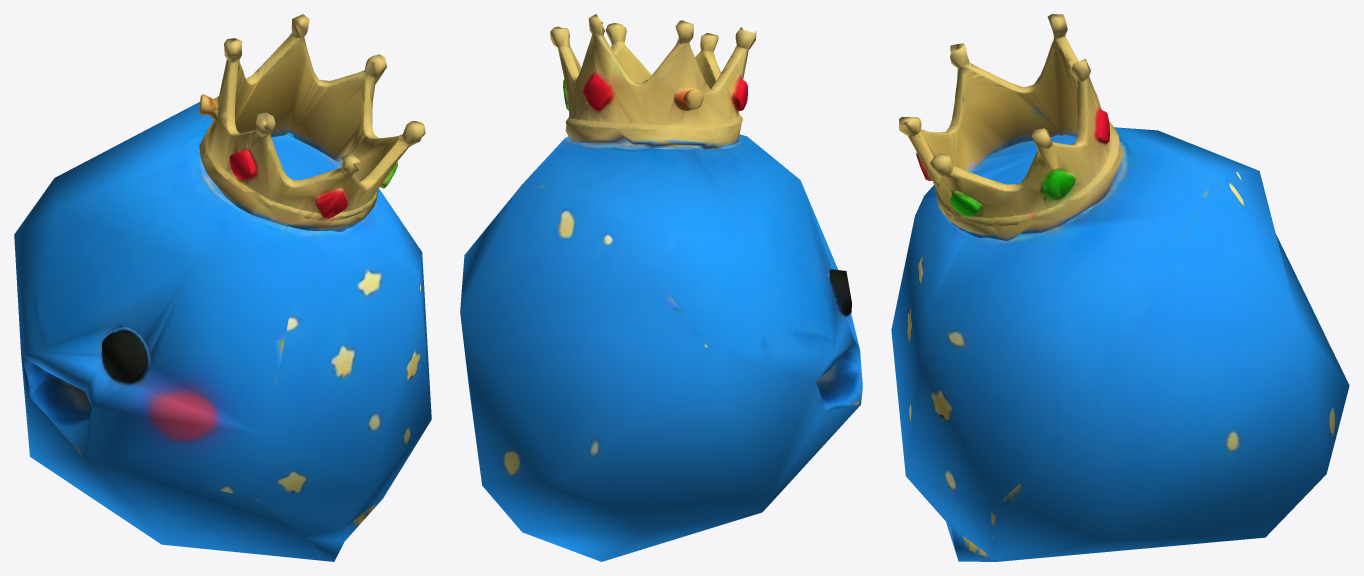
The model's file is sprite.glb.
3 renders of one model, left to right at view 1: azimuth 30°, elevation 25°; view 2: azimuth 150°, elevation 25°; view 3: azimuth 270°, elevation 25°, orthographic. The views are drawn at different scales.
Visible parts, largest first — view 1: item0; view 2: item0; view 3: item0.
Boxes of the visible parts, box(x1,y1,x2,y2) form: item0: box(14, 14, 431, 561); item0: box(460, 14, 862, 561); item0: box(891, 14, 1349, 561).
Size of the model in its own units: 1.58 by 1.97 by 1.57.
1 material, 1 textured.
